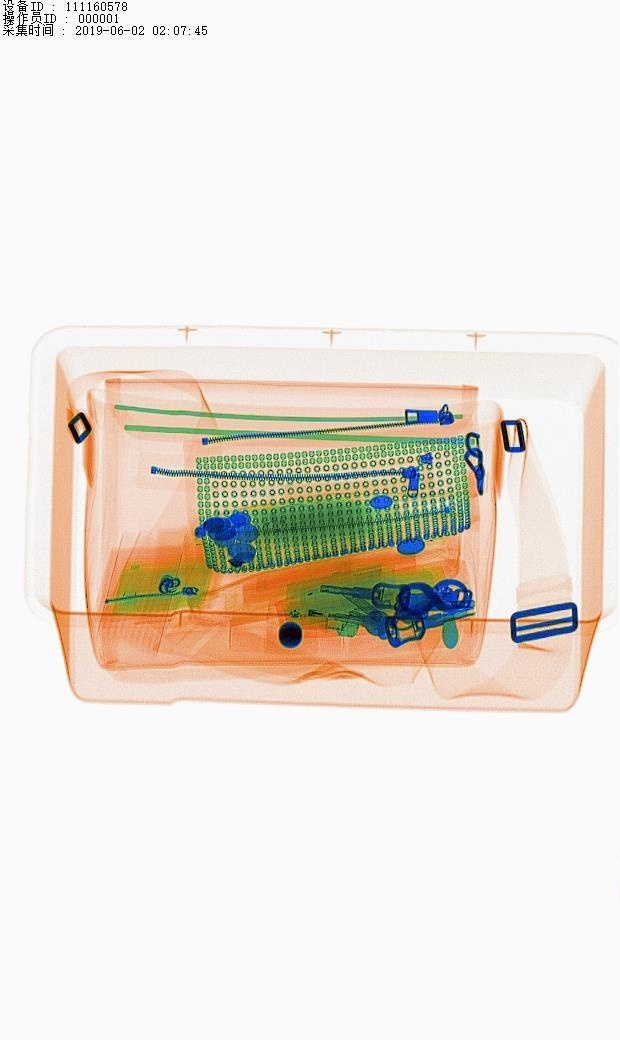NonmetallicFire: (251, 595, 371, 647)
